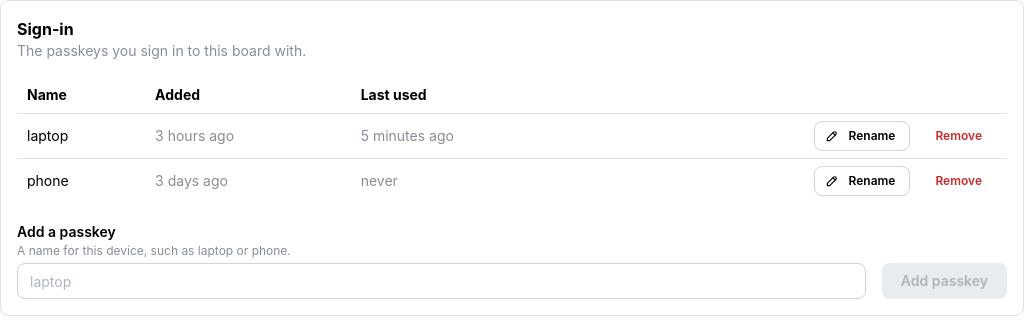
it: the passkeys section › leaves a name alone when the rename is cancelled or empty
Click the button "Rename" in the row of "3 hours ago".
click(862, 136)  # box [814, 121, 910, 151]
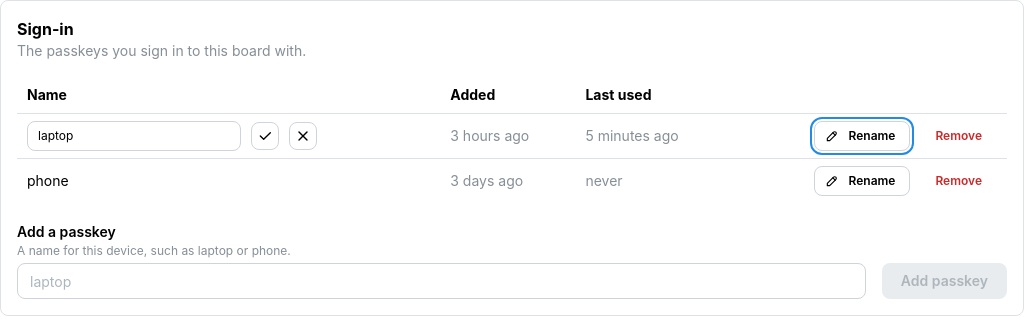
Clear the field named "New name" at (134, 136), box [27, 121, 241, 151]
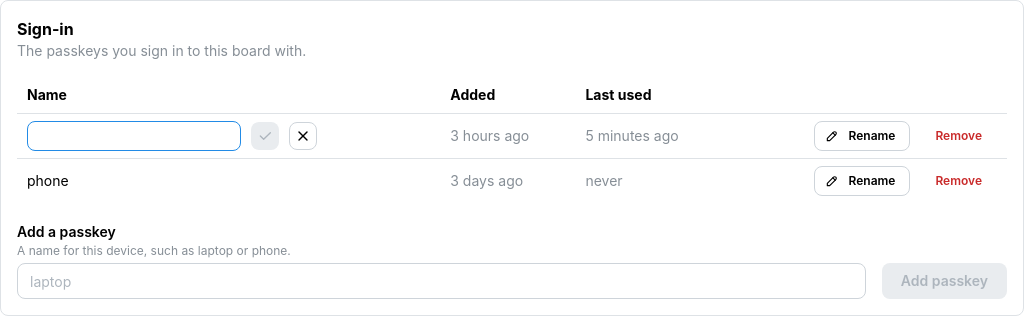
Expected: the button named "Save name" is disabled, [251, 122, 279, 150]
Click the button named "Cancel rename".
click(303, 136)  # box [289, 122, 317, 150]
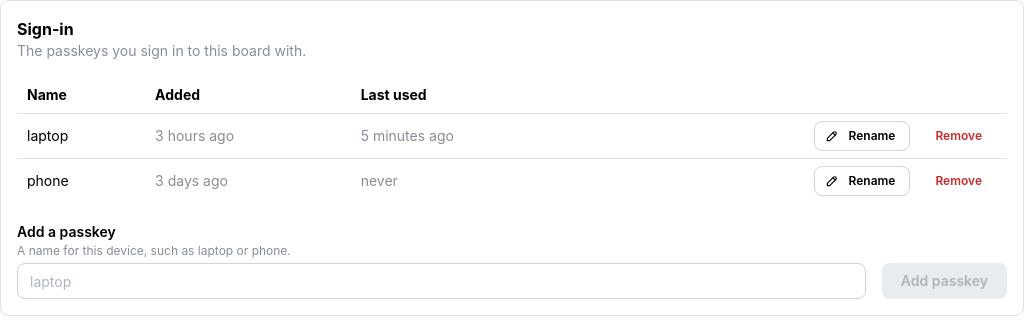
Now the text "laptop" is shown, box [27, 127, 68, 144]
